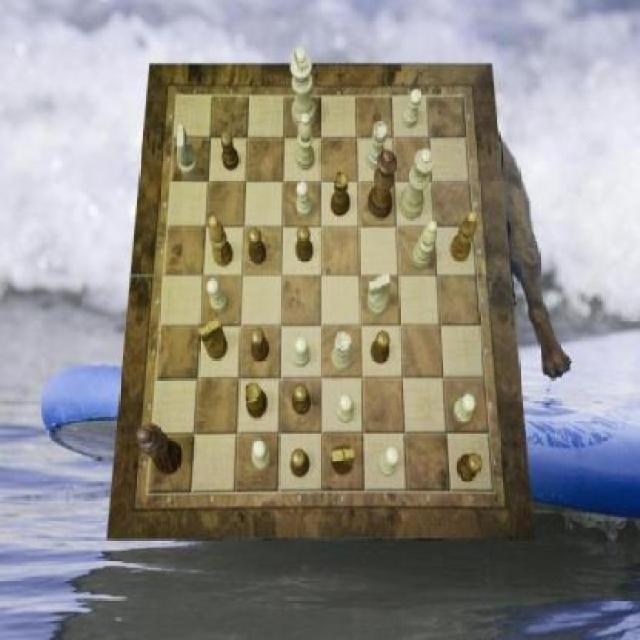bishop: (451, 210, 478, 262), (209, 216, 234, 266)
black-bishop: (136, 425, 182, 477)
black-king: (200, 317, 229, 359), (330, 444, 354, 476)
black-knight: (220, 132, 239, 170), (248, 228, 267, 264), (457, 454, 481, 481), (295, 226, 313, 262), (251, 329, 270, 363), (371, 330, 390, 364), (292, 384, 312, 416), (291, 451, 311, 478)
black-pawn: (368, 151, 398, 220)
black-queen: (331, 171, 351, 217), (245, 382, 268, 419)
black-rook: (411, 220, 437, 269), (296, 112, 314, 170)
white-bishop: (291, 46, 317, 130)
white-king: (177, 125, 199, 177), (368, 274, 390, 316)
white-knight: (206, 278, 229, 312), (403, 89, 423, 128), (377, 446, 399, 477), (454, 394, 476, 424), (297, 182, 314, 220), (252, 440, 272, 471), (292, 337, 312, 368), (336, 394, 354, 421)
white-pawn: (398, 149, 434, 220)
white-queen: (368, 123, 388, 171), (331, 332, 353, 372)
